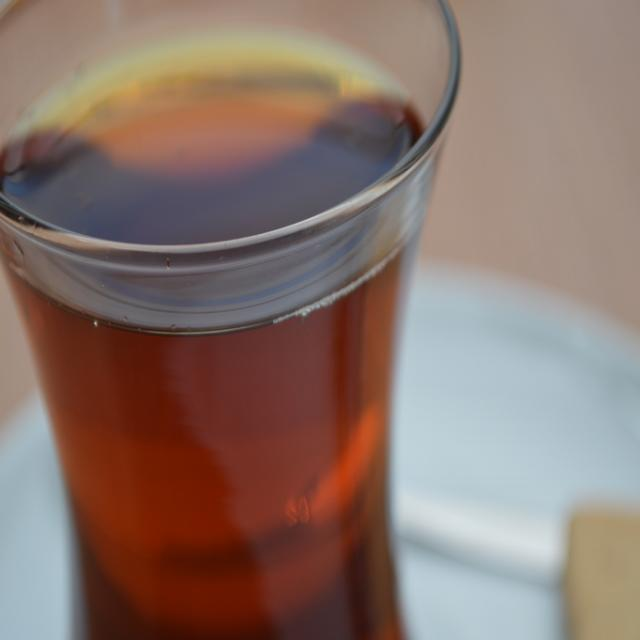Tea: (0, 28, 433, 640)
